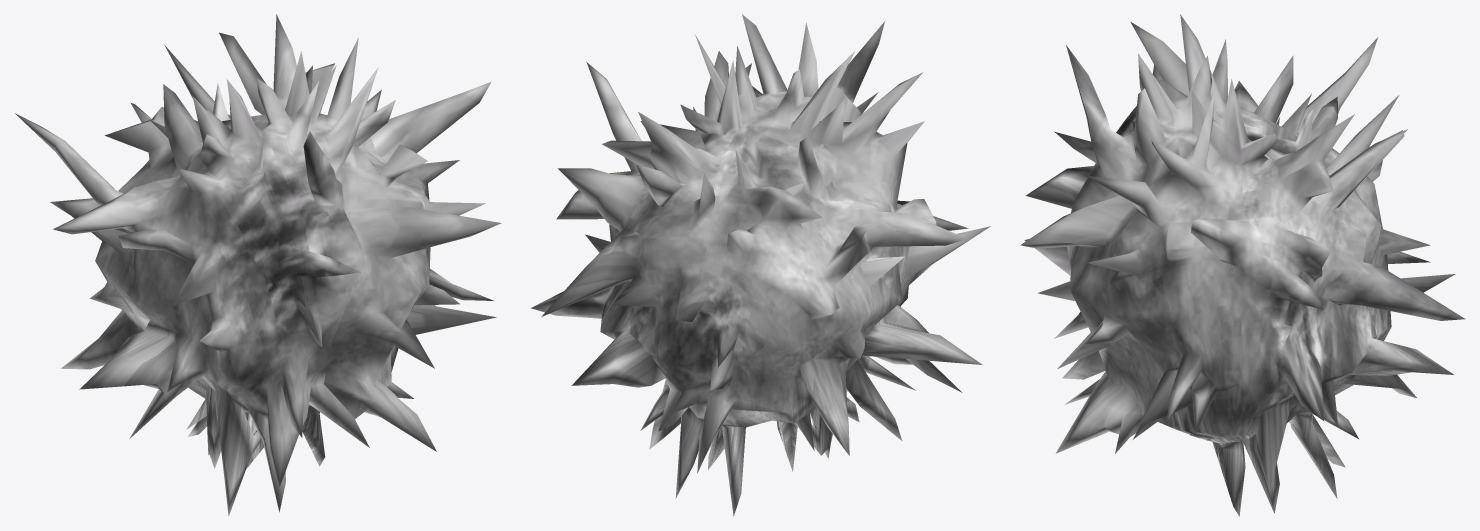
File: IceBall_01.fbx
3 renders of one model, left to right at view 1: azimuth 30°, elevation 25°; view 2: azimuth 150°, elevation 25°; view 3: azimuth 270°, elevation 25°, orthographic. The views are drawn at different scales.
Parts seen in each view (by area): view 1: Object001; view 2: Object001; view 3: Object001.
Boxes of the visible parts, <box> form: Object001: <box>15,14,501,515</box>; Object001: <box>531,14,990,516</box>; Object001: <box>1020,14,1465,516</box>.
Size of the model in its own units: 4.48 by 4.53 by 4.13.
Materials: 1 (1 with a texture image).
